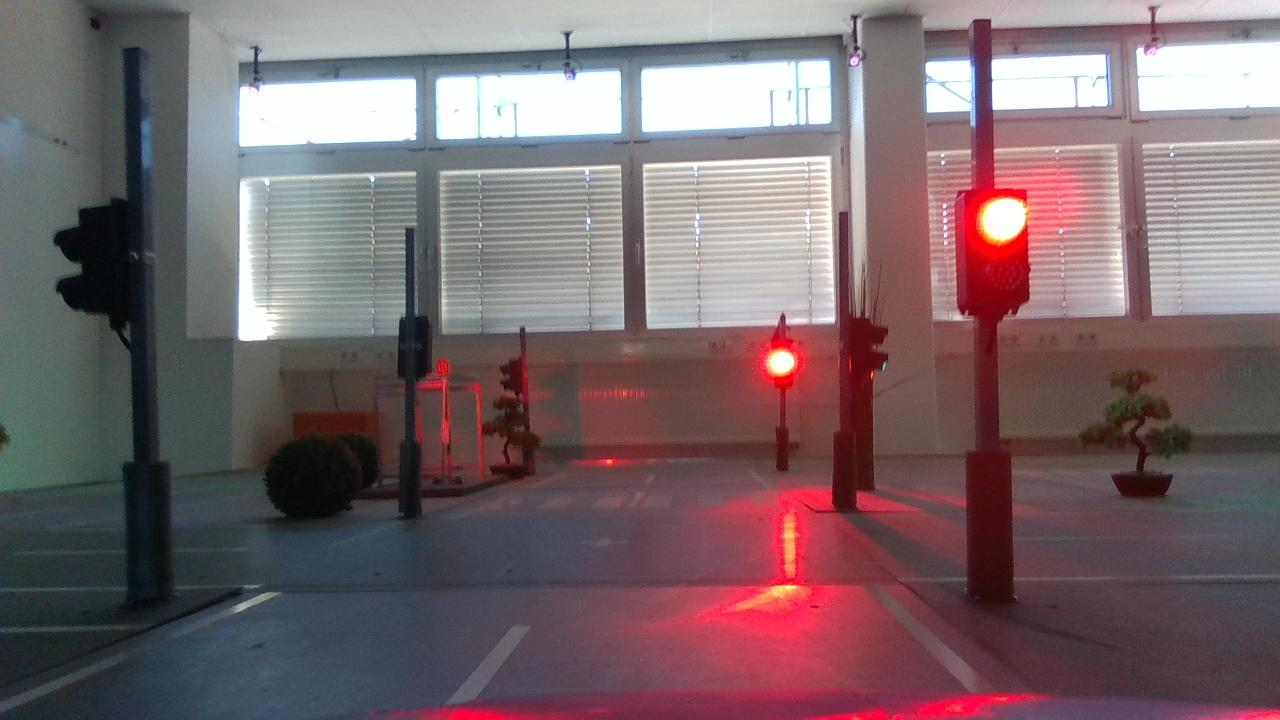traffic_light_red: (942, 181, 1044, 331)
